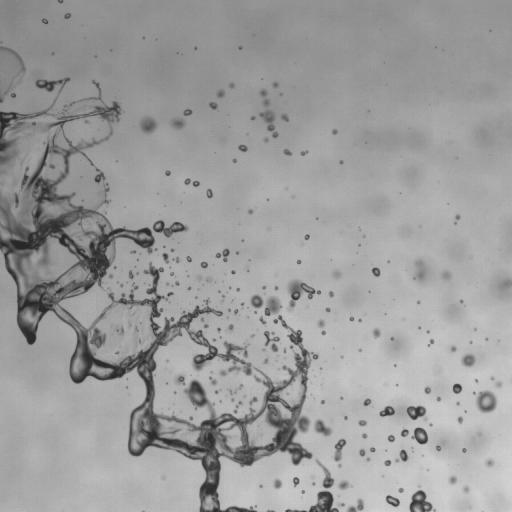droplet: (285, 459, 344, 511), (286, 279, 320, 311), (409, 489, 435, 511), (475, 390, 497, 412), (0, 80, 15, 102), (264, 331, 279, 351), (314, 419, 331, 436), (411, 427, 427, 444), (407, 405, 426, 419), (140, 117, 156, 133), (94, 167, 105, 183), (216, 248, 229, 261), (395, 449, 408, 462), (461, 354, 475, 366), (385, 495, 399, 506), (379, 406, 394, 416), (174, 374, 185, 385), (171, 119, 184, 128), (338, 480, 349, 489), (453, 383, 462, 393), (273, 478, 282, 488), (441, 270, 450, 279), (114, 326, 123, 335), (372, 328, 380, 338), (372, 267, 380, 276), (448, 476, 457, 484), (414, 272, 424, 279), (209, 377, 217, 385), (485, 459, 494, 466), (162, 253, 168, 263), (216, 90, 224, 97), (209, 102, 217, 109), (317, 320, 324, 328), (135, 338, 143, 345), (363, 398, 371, 405), (401, 428, 408, 436), (238, 145, 247, 151), (293, 477, 299, 486), (281, 114, 288, 121), (333, 270, 340, 277), (387, 435, 394, 442), (358, 449, 365, 456), (462, 485, 469, 492), (183, 109, 191, 115), (283, 149, 291, 155), (206, 189, 212, 197), (358, 420, 366, 426), (260, 89, 266, 96), (263, 99, 269, 106), (415, 260, 422, 266), (200, 262, 207, 268), (227, 324, 233, 331), (384, 460, 391, 466), (495, 381, 501, 387), (424, 387, 430, 393), (506, 279, 511, 286), (457, 416, 462, 423), (64, 13, 70, 18), (455, 214, 460, 220), (450, 346, 456, 351), (300, 151, 307, 155), (129, 271, 133, 278), (332, 129, 337, 134), (165, 170, 170, 175), (304, 234, 309, 239), (174, 257, 179, 262), (186, 256, 191, 261), (429, 339, 434, 344), (362, 433, 367, 438), (329, 291, 333, 297), (134, 326, 138, 332), (42, 19, 47, 23), (229, 83, 234, 87), (273, 82, 277, 87), (248, 209, 252, 214), (206, 277, 211, 281), (325, 307, 330, 311), (321, 330, 325, 335), (264, 358, 268, 363), (238, 384, 242, 389), (370, 447, 374, 452), (436, 446, 441, 450), (398, 488, 403, 492), (264, 138, 268, 142), (339, 160, 343, 164), (231, 270, 235, 274), (109, 274, 113, 278), (175, 281, 179, 285), (274, 286, 278, 290), (234, 309, 238, 313), (349, 317, 353, 321), (462, 448, 466, 452), (366, 457, 370, 461), (229, 391, 234, 394), (131, 250, 135, 253), (240, 302, 243, 306), (437, 397, 440, 401), (57, 0, 62, 2), (251, 116, 254, 119), (85, 120, 88, 123), (233, 159, 236, 162), (297, 260, 300, 263), (262, 286, 265, 289), (204, 324, 207, 327), (217, 328, 220, 331), (283, 349, 286, 352), (215, 390, 218, 393), (321, 400, 324, 403), (198, 276, 200, 280), (239, 46, 241, 49), (170, 273, 173, 275), (120, 284, 123, 286), (358, 319, 361, 321), (391, 337, 393, 340), (491, 377, 493, 380), (475, 380, 478, 382), (456, 402, 459, 404), (344, 417, 347, 419), (171, 249, 173, 251), (188, 287, 190, 289), (460, 300, 462, 302), (129, 323, 131, 325), (258, 423, 260, 425), (430, 423, 432, 425)
ligament: (0, 102, 318, 511), (0, 99, 55, 175), (0, 46, 25, 75), (260, 110, 278, 137), (35, 77, 69, 91), (333, 438, 346, 461), (346, 498, 363, 511), (79, 94, 101, 101), (184, 178, 199, 186), (92, 81, 101, 92), (259, 317, 266, 325), (267, 510, 274, 511)
